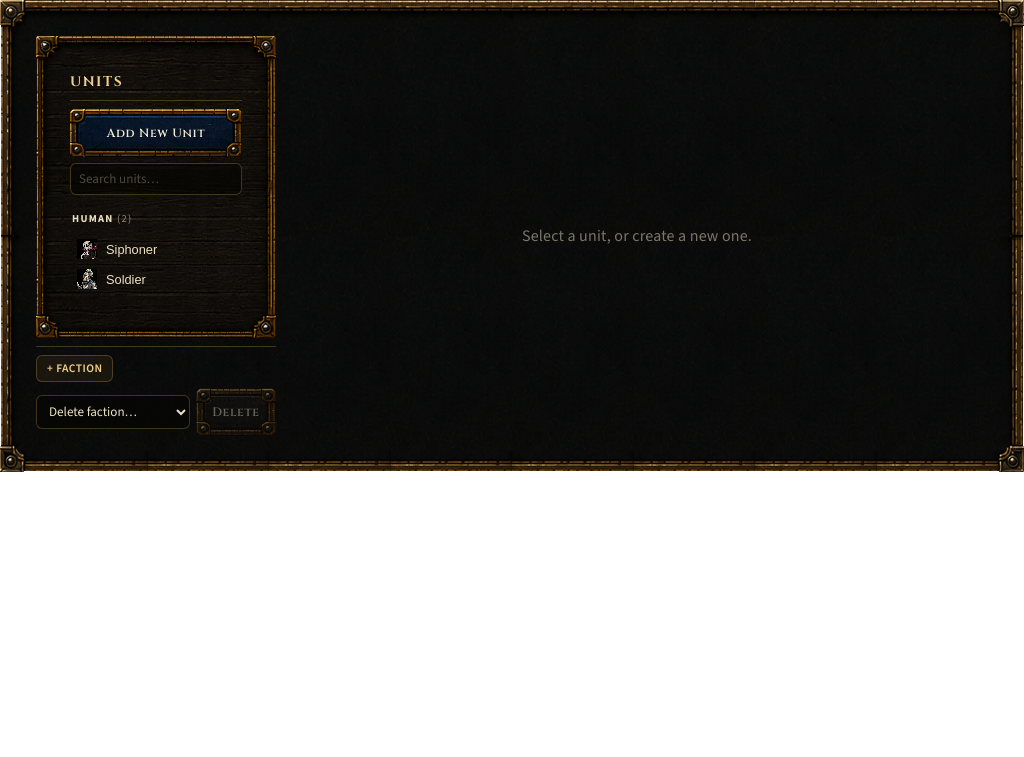
UnitTypeEditorPanel — channel-loop preview wiring › offers the Channel Loop control for a unit with a channelling ability
The image size is (1024, 757).
Click the button "Siphoner": (134, 249) 70,234 -> 197,264
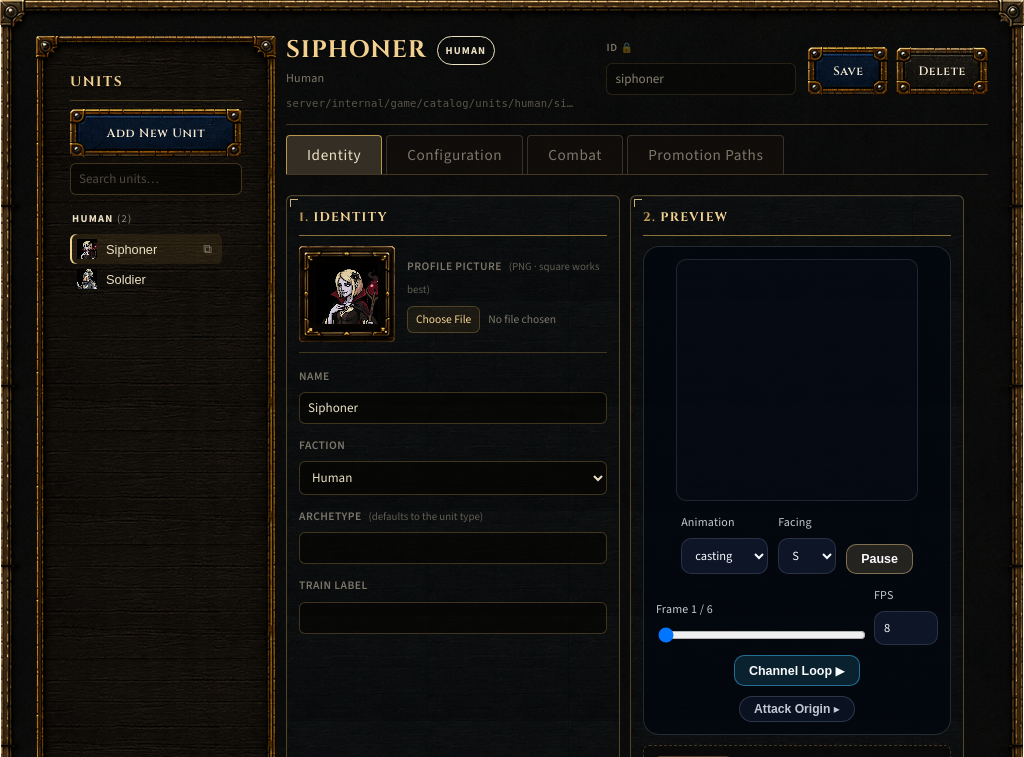
Result: the button "Channel Loop ▶" is shown at 734,655 -> 860,686
